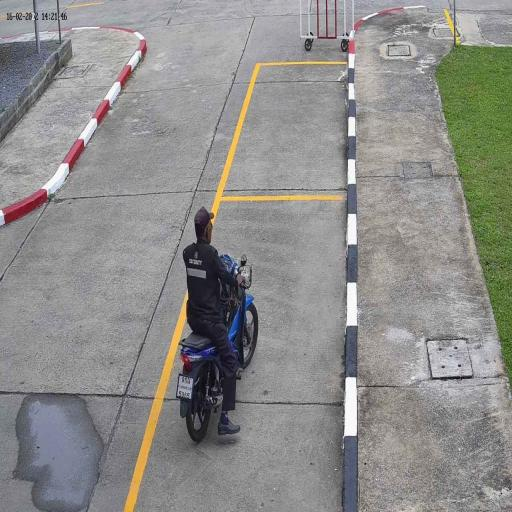motorcycle: (174, 251, 262, 448)
